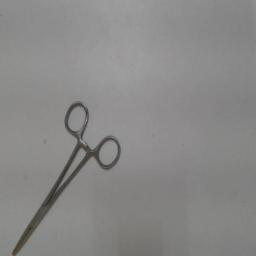Mayo Needle Holder: (7, 96, 125, 254)
